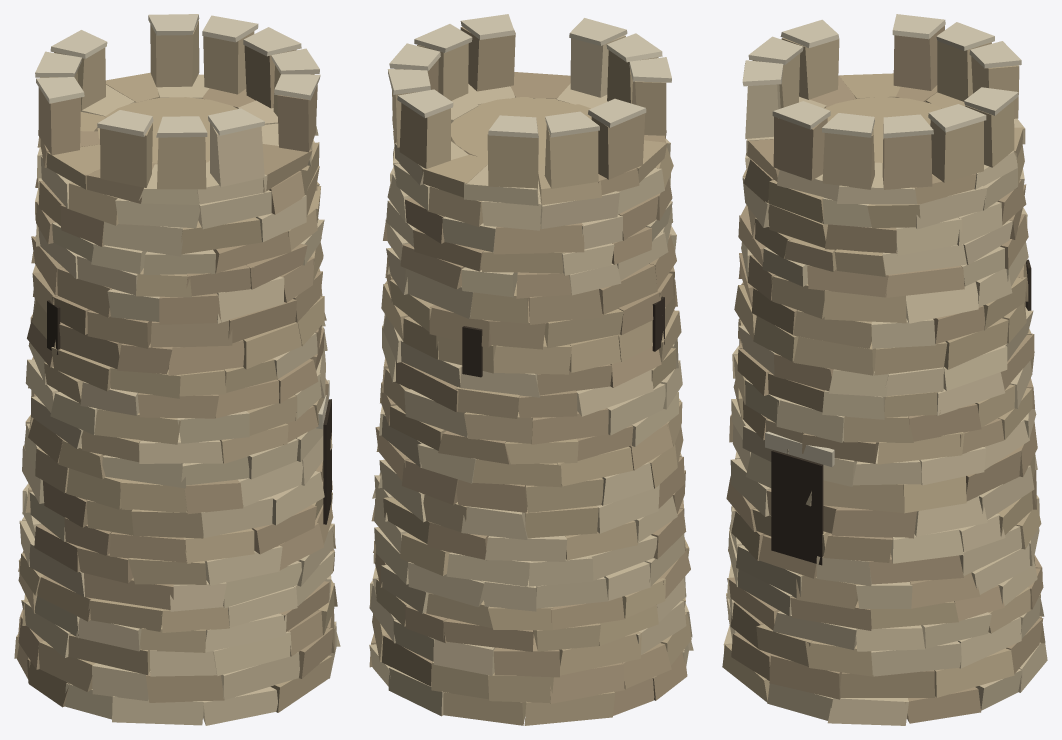
File: talaia-albercutx.glb
3 views of the same model, side by side, from view 1: azimuth 30°, elevation 25°; view 2: azimuth 150°, elevation 25°; view 3: azimuth 270°, elevation 25° (orthographic).
Visible parts, largest first — view 1: talaia-albercutx; view 2: talaia-albercutx; view 3: talaia-albercutx.
Part boxes in pixels (x1,y1,x2,y2): talaia-albercutx: (14, 14, 340, 725); talaia-albercutx: (369, 14, 693, 725); talaia-albercutx: (722, 14, 1047, 725).
Bounding box in the file's own units: 5.03 × 9.99 × 5.04.
